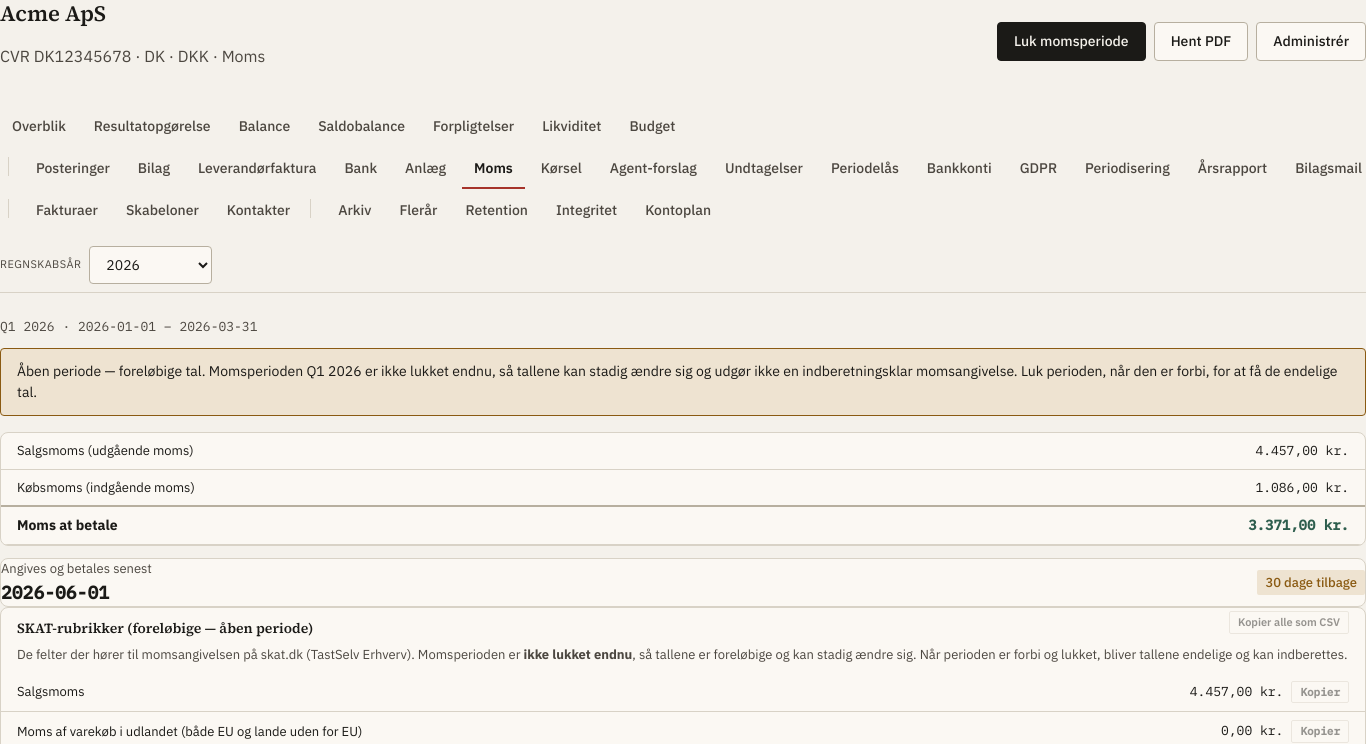
VatView — Moms › closes the VAT period and confirms it
Click the button "Luk momsperiode" at [1071, 42], box [997,22,1146,61]
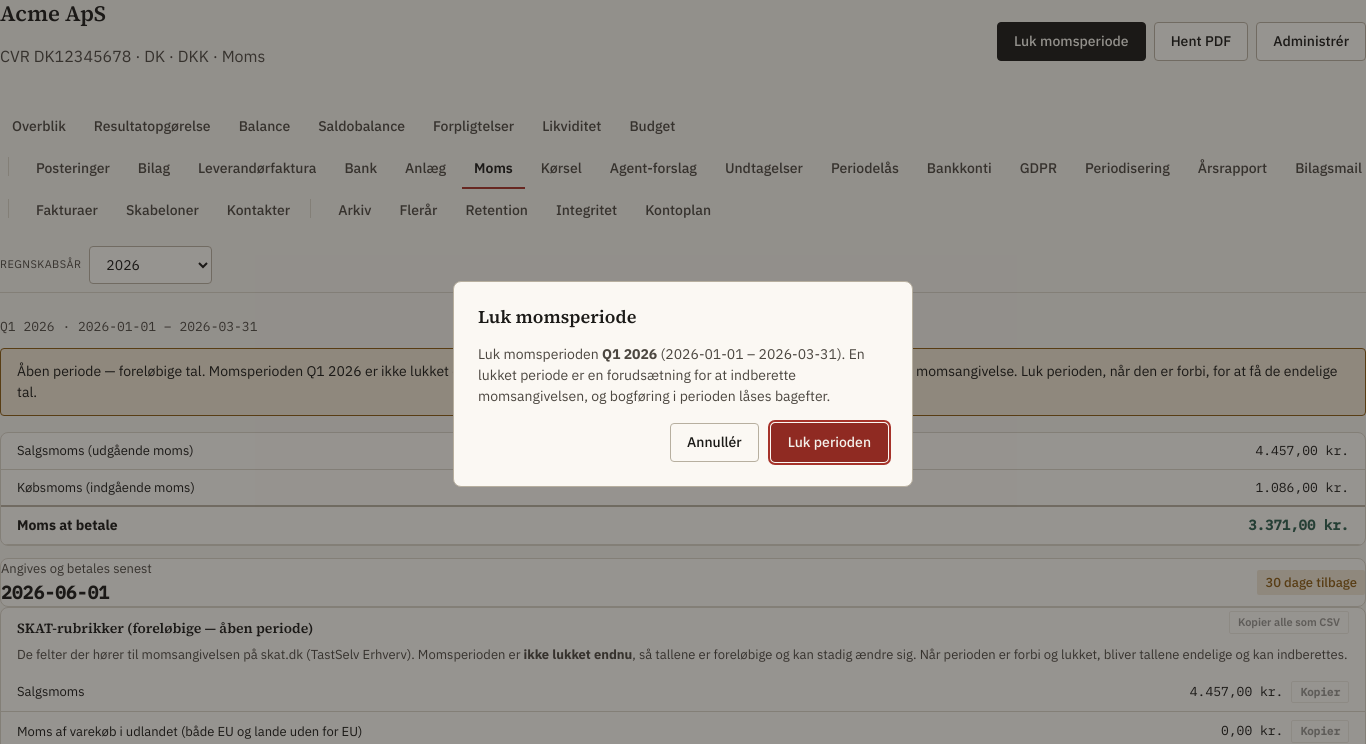
Note: A confirm step guards the irreversible close.
Click the button "Luk perioden" at [829, 443], box [771,423,888,462]
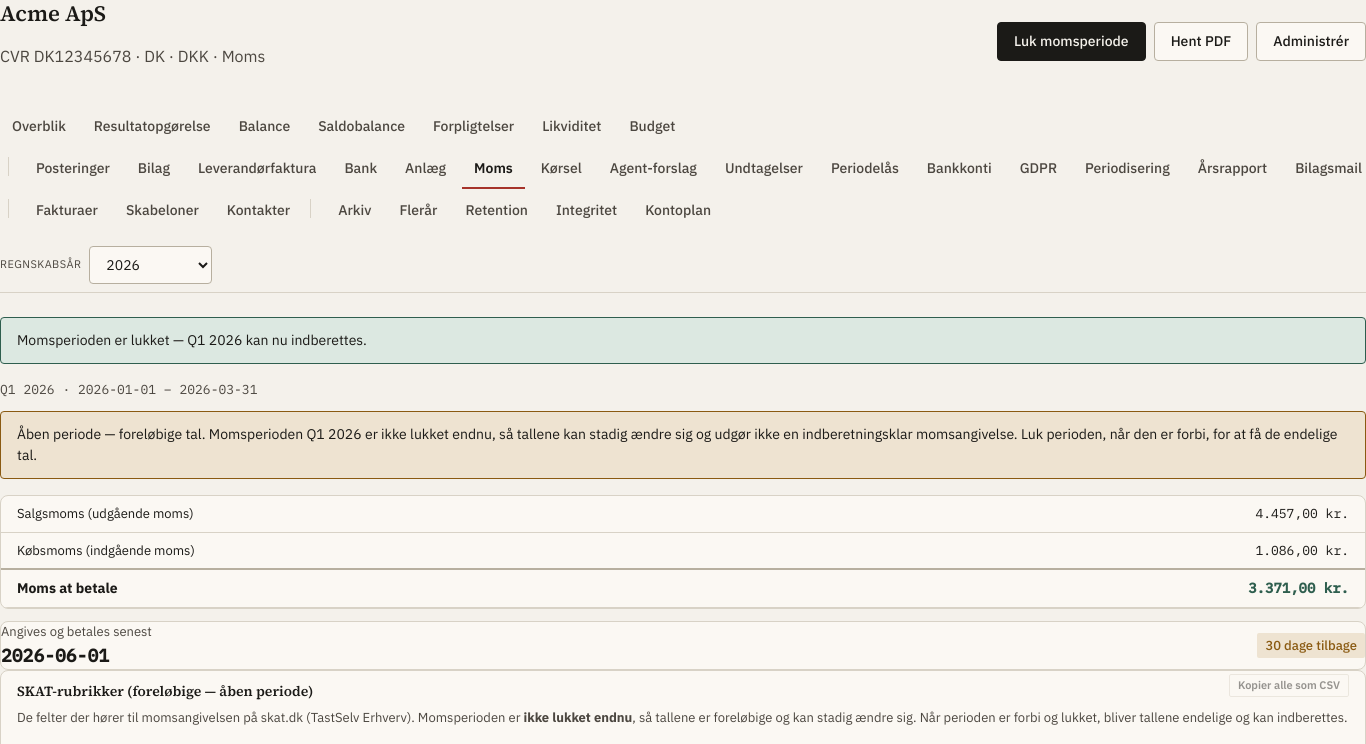
Expected: the text "Momsperioden er lukket — Q1 2026 kan nu indberettes." is shown, [0,316,1365,364]
